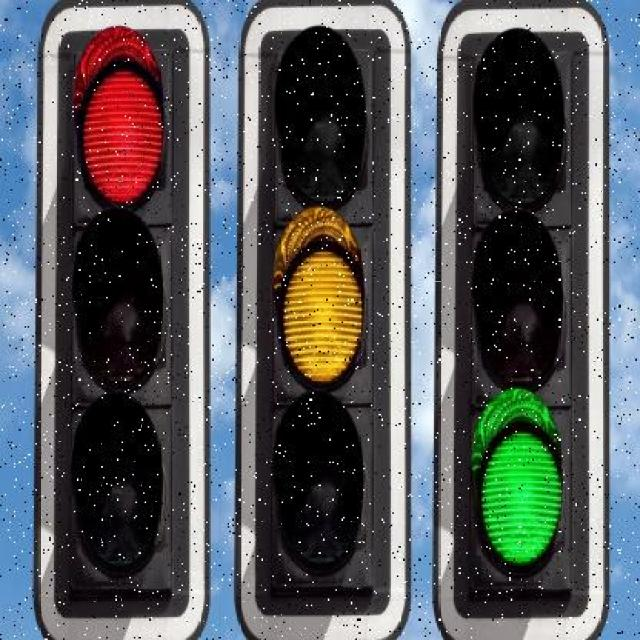green-light: (435, 0, 604, 640)
red-light: (42, 10, 202, 633)
yellow-light: (232, 0, 405, 640)
